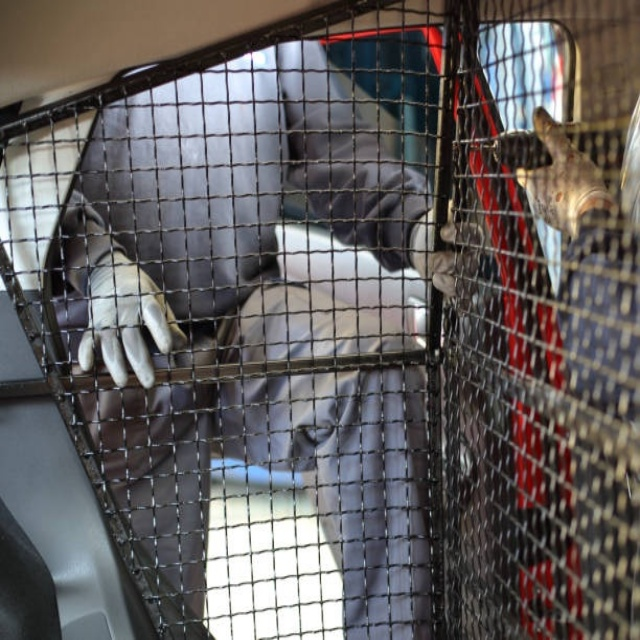Guantes: (502, 97, 621, 239), (69, 247, 182, 394), (406, 189, 492, 301)
